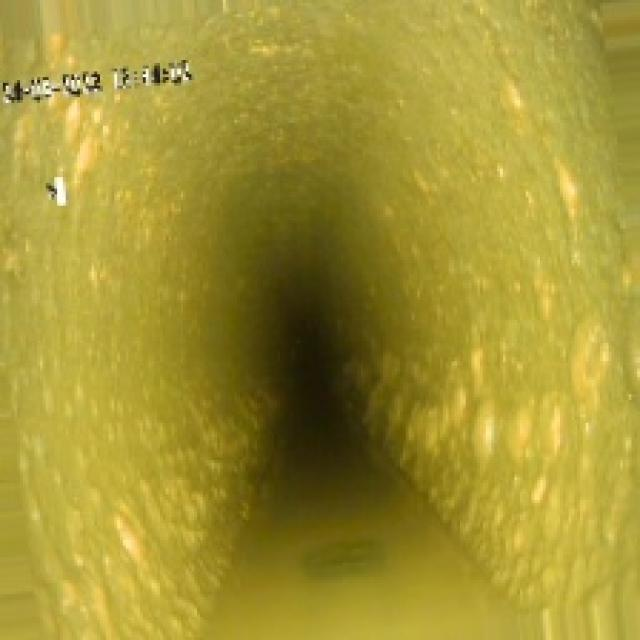encrustation: (94, 106, 603, 534)
